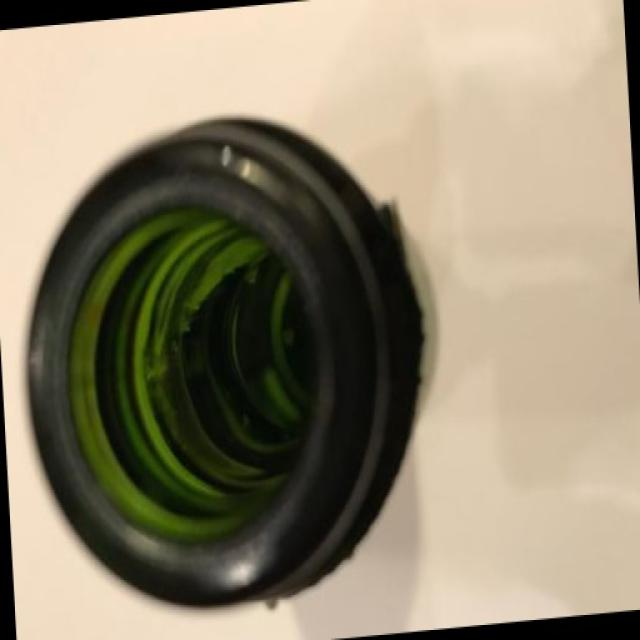vidrio: (2, 75, 517, 640)
